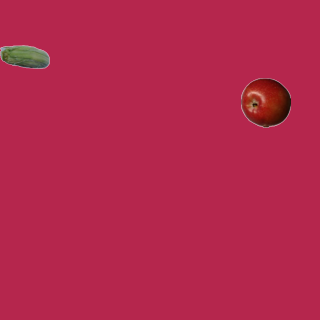Apple Braeburn: (240, 77, 290, 127)
Corn Husk: (0, 33, 49, 83)
